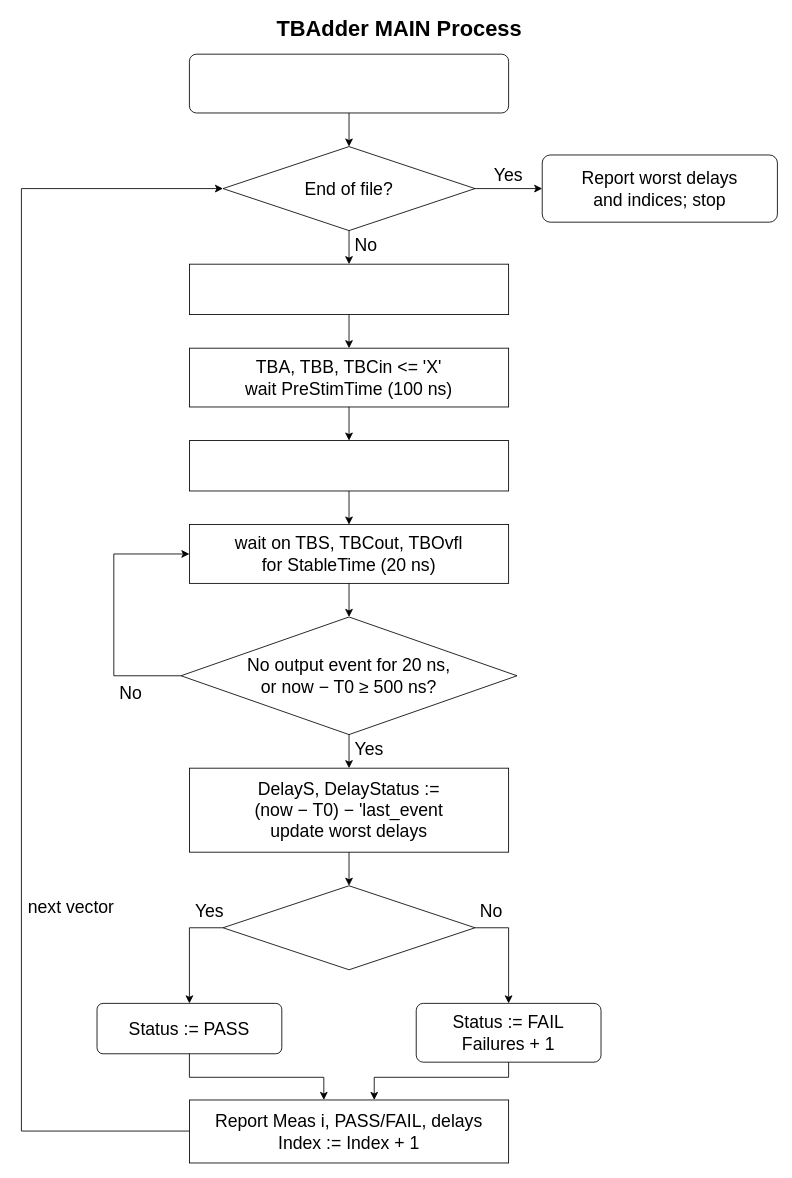
This 792x1178 diagram has some shape labels left out. The shapes that lost their labels are listed below. From the top down, each one's box as (x1, y1, x2, y2) in pixels, then its label:
(189, 53, 509, 113): Open TestVectorFile Index := 1, Failures := 0
(189, 263, 509, 315): Read A, B, Cin, S, Cout, Ovfl
(189, 440, 509, 491): Apply A, B, Cin; T0 := now
(222, 885, 475, 970): Outputs = expected?
